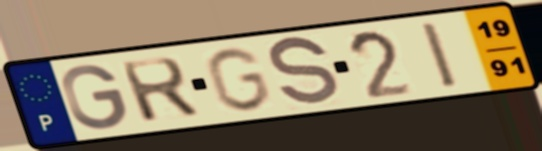2: (346, 28, 416, 101)
G: (58, 62, 131, 133), (202, 45, 274, 114)
I: (417, 19, 463, 92)
R: (116, 55, 204, 125)
S: (266, 33, 342, 111)
